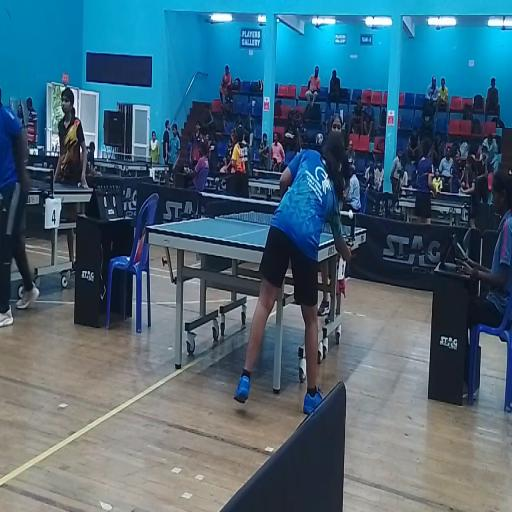ball: (348, 210, 353, 220)
